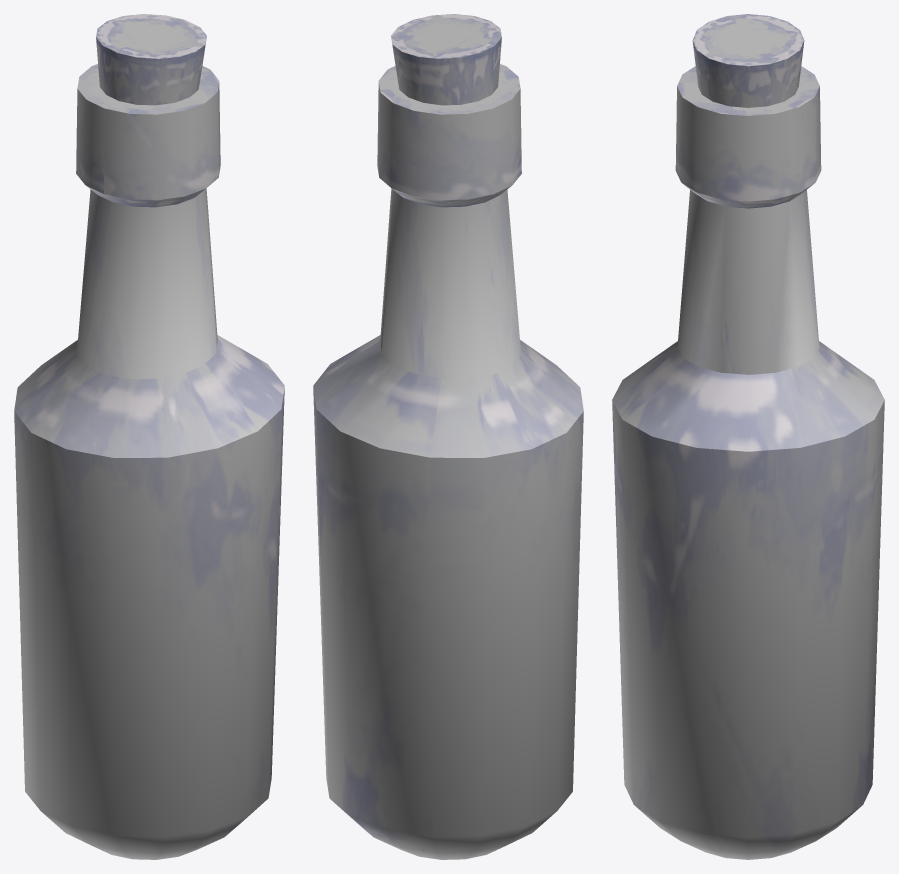
The model's file is Bottle_2.fbx.
The picture shows the model from 3 angles, left to right: view 1: azimuth 30°, elevation 25°; view 2: azimuth 150°, elevation 25°; view 3: azimuth 270°, elevation 25°; orthographic projection.
Parts seen in each view (by area): view 1: Bottle_2; view 2: Bottle_2; view 3: Bottle_2.
Boxes of the visible parts, x1=… form: Bottle_2: x1=14, y1=14, x2=284, y2=859; Bottle_2: x1=313, y1=14, x2=583, y2=859; Bottle_2: x1=612, y1=14, x2=884, y2=859.
Bounding box in the file's own units: 11.28 × 36.47 × 11.29.
